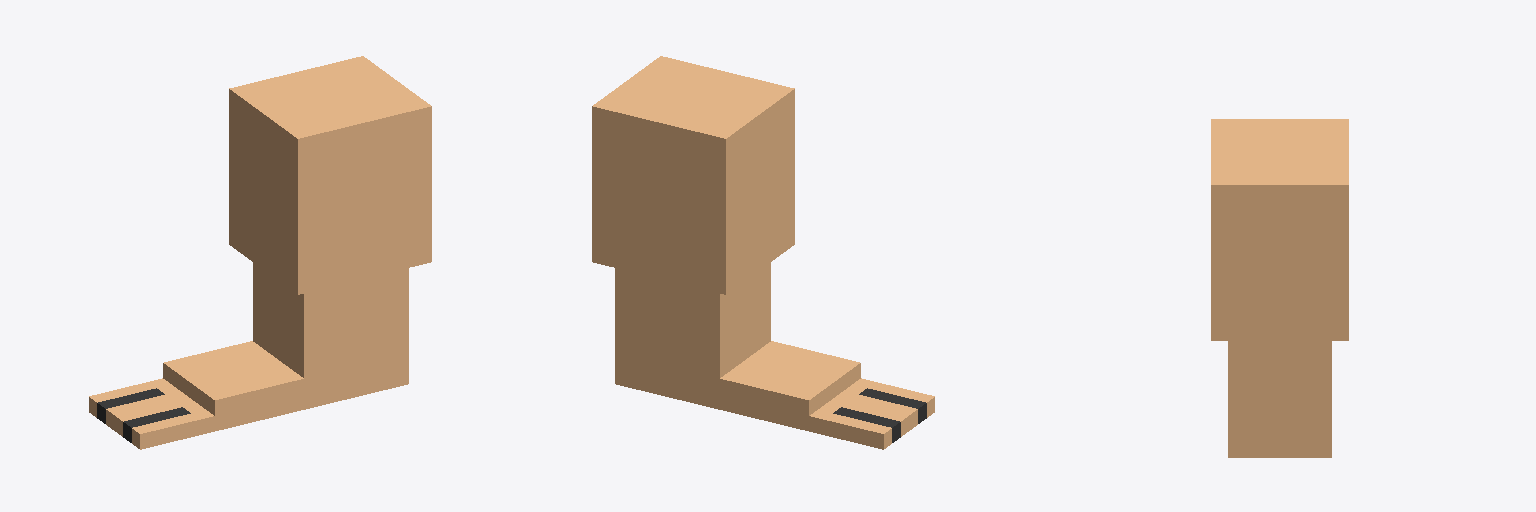
The picture shows the model from 3 angles: view 1: azimuth 30°, elevation 25°; view 2: azimuth 150°, elevation 25°; view 3: azimuth 270°, elevation 25°; orthographic projection.
Parts seen in each view (by area): view 1: object 1; view 2: object 1; view 3: object 1.
Boxes of the visible parts, box(x1,y1,x2,y2) form: object 1: box(89, 56, 431, 449); object 1: box(592, 56, 934, 449); object 1: box(1211, 119, 1348, 457).
Bounding box in the file's own units: 1.9 × 1.8 × 0.8.
Materials: 1 (1 with a texture image).